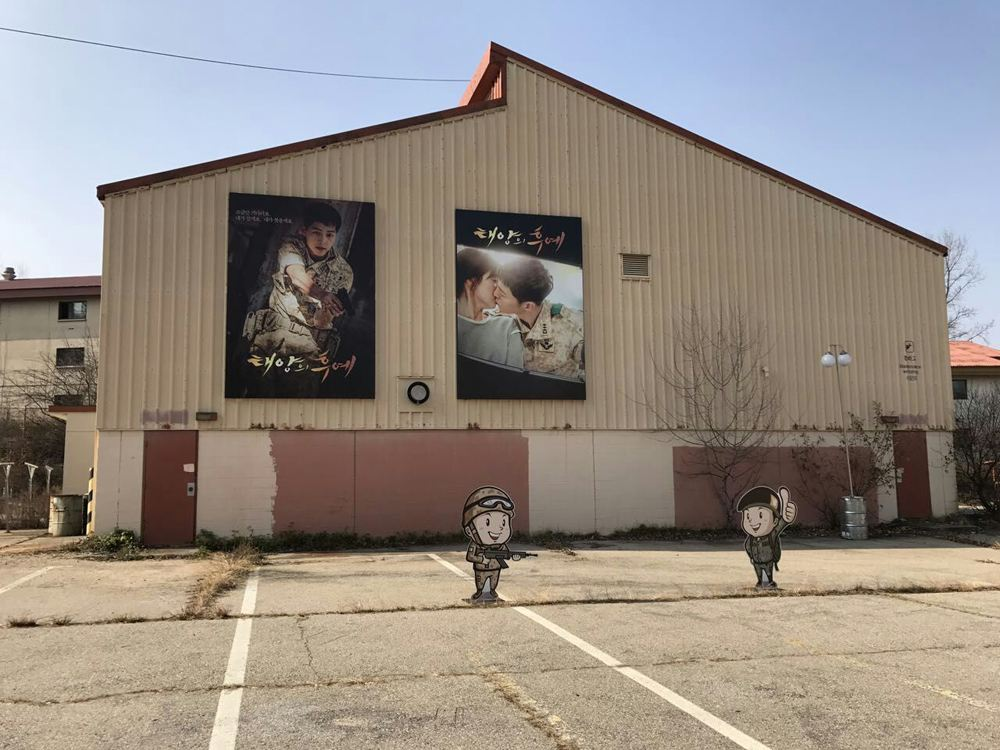bill: (227, 193, 379, 402), (455, 212, 587, 401)
